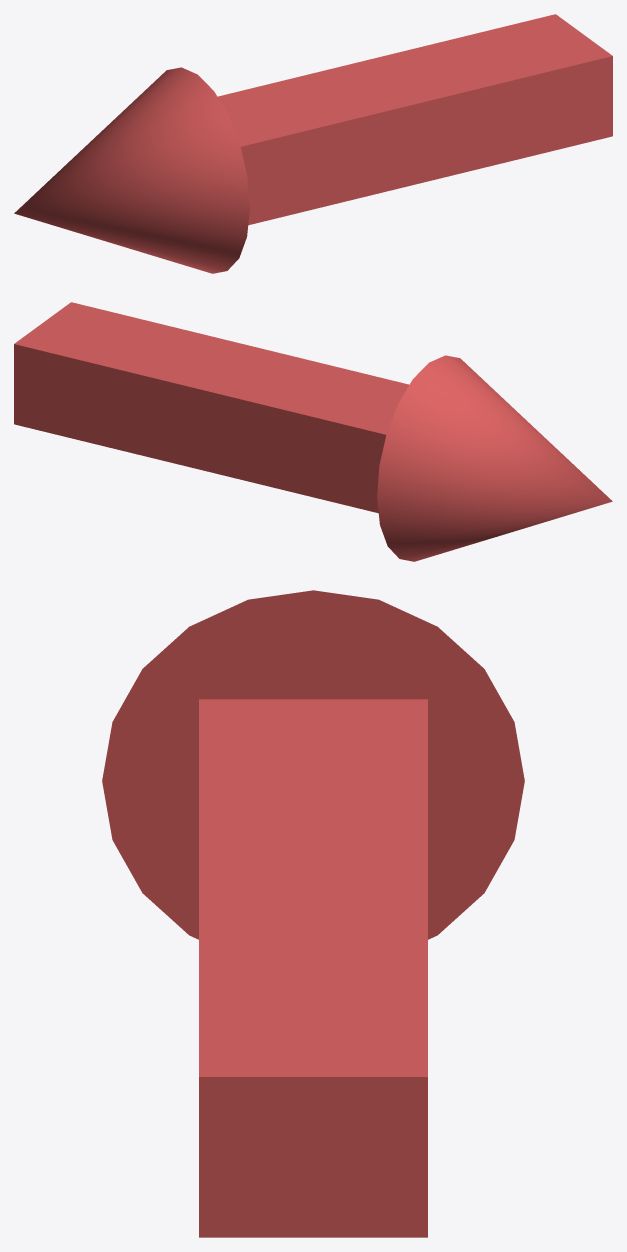
Rendered from yajirusi.fbx.
The picture shows the model from 3 angles, top to bottom: view 1: azimuth 30°, elevation 25°; view 2: azimuth 150°, elevation 25°; view 3: azimuth 270°, elevation 25°; orthographic projection. The views are drawn at different scales.
Parts seen in each view (by area): view 1: pCube1, pCone1; view 2: pCube1, pCone1; view 3: pCube1, pCone1.
Boxes of the visible parts, box(x1,y1,x2,y2) form: pCube1: box(218, 14, 612, 225); pCone1: box(14, 67, 249, 273); pCube1: box(14, 302, 408, 513); pCone1: box(377, 355, 612, 561); pCube1: box(199, 699, 427, 1237); pCone1: box(102, 590, 524, 939).
Bounding box in the file's own units: 1.46 × 0.4687 × 0.4687.
